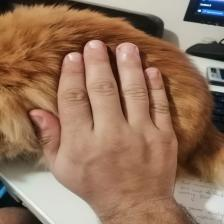five: (21, 30, 206, 224)
